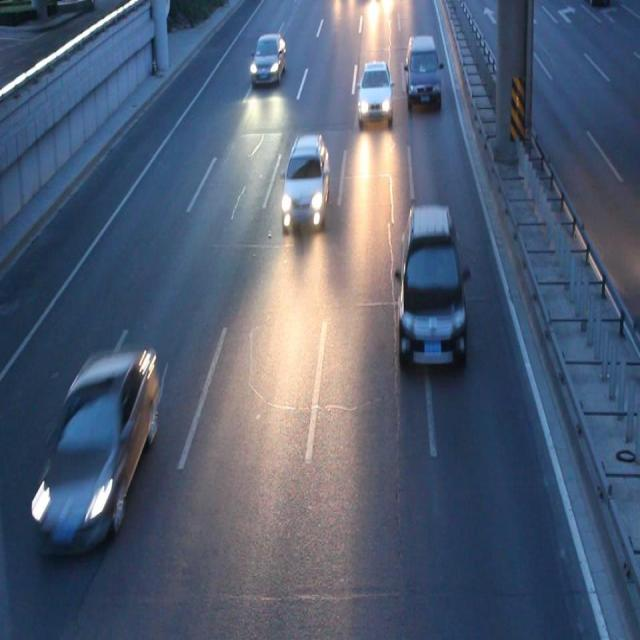car: (38, 354, 156, 549), (398, 206, 466, 367), (282, 136, 329, 226), (358, 64, 390, 117), (251, 36, 285, 80)
truck: (404, 38, 440, 103)
